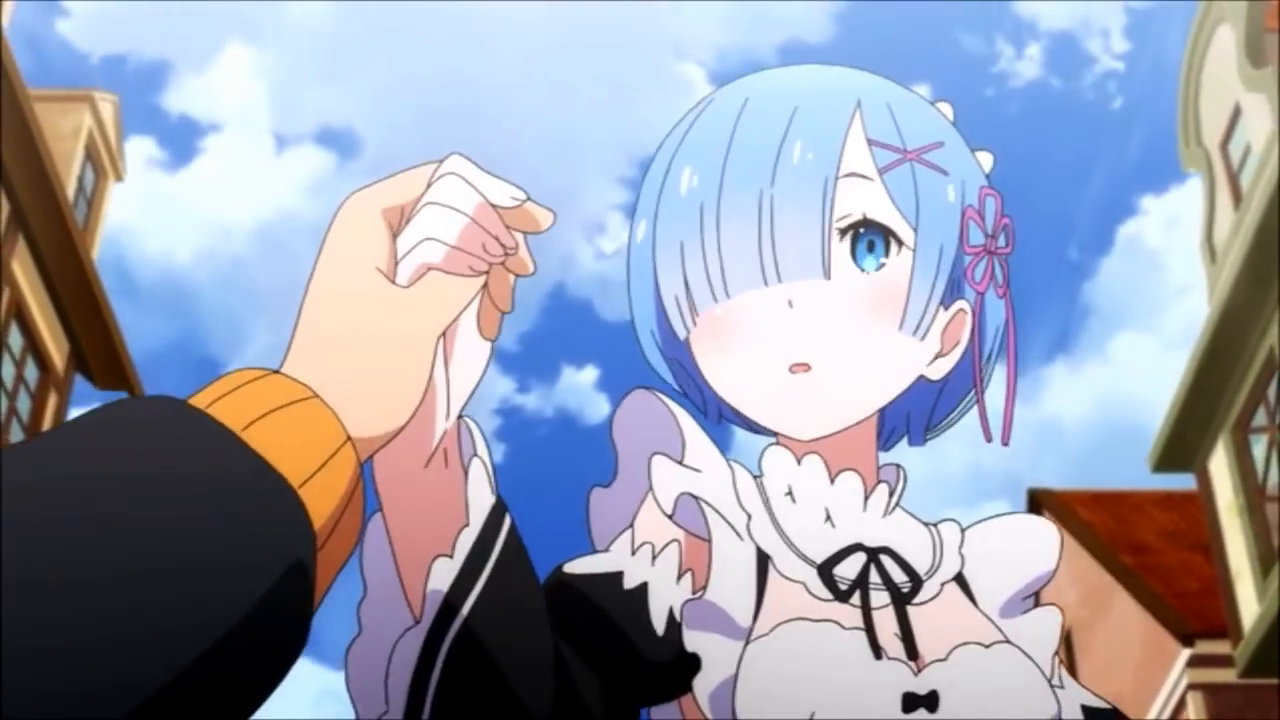REM: (623, 61, 1019, 459)
